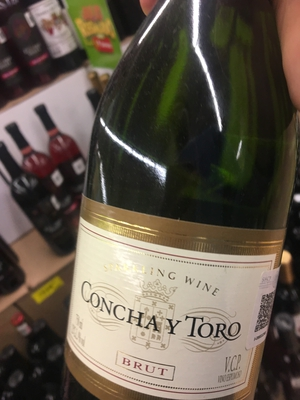brut: (68, 25, 297, 400)
